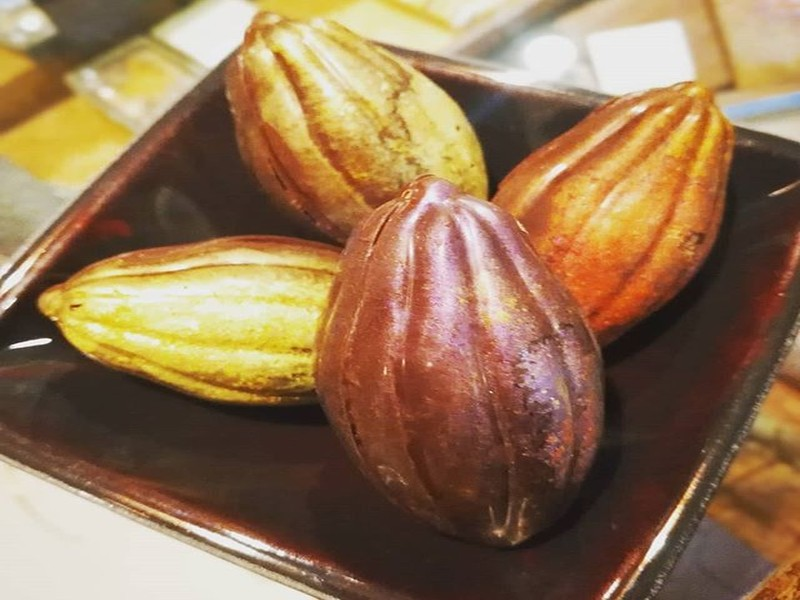Cacaopod: (318, 179, 609, 553)
